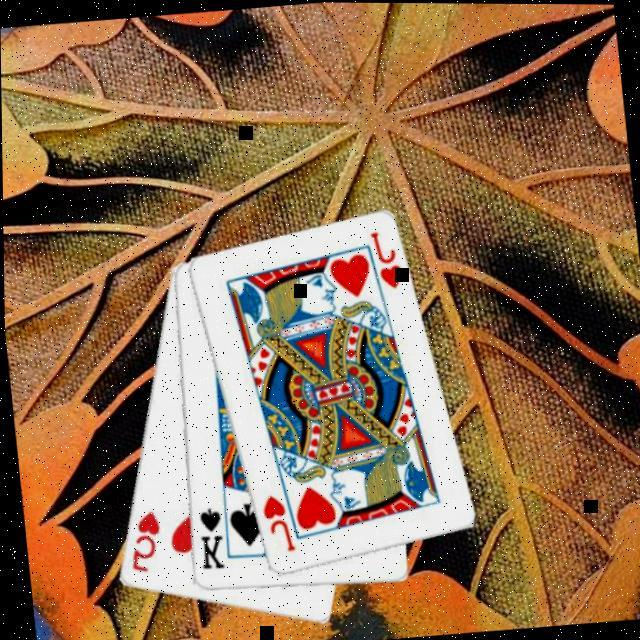5H: (119, 505, 164, 574)
JH: (254, 487, 295, 553), (364, 225, 404, 291)
KS: (189, 501, 226, 571)
